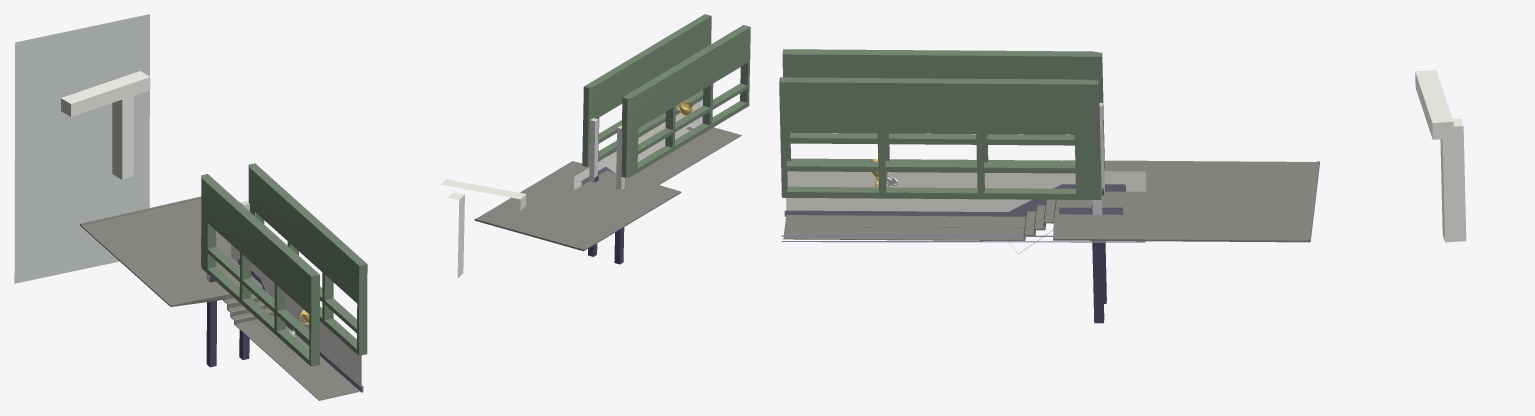
3 views of the same model, side by side, from view 1: azimuth 30°, elevation 25°; view 2: azimuth 150°, elevation 25°; view 3: azimuth 270°, elevation 25° (orthographic). The views are drawn at different scales.
Visible parts, largest first — view 1: Plane.7, Cube, Boole, Cube.3 (×2), Plane.1, Plane.6, Plane.5, Cube.9; view 2: Cube, Boole, Cube.3 (×2), Plane.1, Plane.6, Cube.9, Plane.5, Cube.1, Cube.2; view 3: Cube, Cube.3, Boole, Plane, Cube.9, Plane.5, Plane.6, Plane.13, Plane.8, Cube.4.
Part boxes in pixels (x1,y1,x2,y2): Plane.7: [14, 14, 149, 283]; Cube: [80, 196, 359, 400]; Boole: [201, 174, 319, 366]; Cube.3 (×2): [206, 163, 367, 367]; Plane.1: [231, 244, 361, 386]; Plane.6: [61, 71, 150, 116]; Plane.5: [112, 95, 133, 179]; Cube.9: [255, 213, 356, 348]; Cube: [474, 127, 741, 251]; Boole: [621, 25, 750, 177]; Cube.3 (×2): [582, 14, 711, 264]; Plane.1: [574, 99, 702, 190]; Plane.6: [440, 179, 526, 210]; Cube.9: [598, 90, 703, 157]; Plane.5: [448, 192, 464, 277]; Cube.1: [589, 118, 598, 182]; Cube.2: [616, 126, 624, 189]; Cube: [783, 160, 1319, 242]; Cube.3: [779, 77, 1101, 199]; Boole: [782, 49, 1104, 169]; Plane: [786, 171, 1146, 211]; Cube.9: [785, 133, 1075, 193]; Plane.5: [1440, 118, 1466, 242]; Plane.6: [1415, 70, 1453, 139]; Plane.13: [781, 235, 1145, 242]; Plane.8: [784, 210, 1025, 216]; Cube.4: [1091, 204, 1104, 323].
Size of the model in its own units: 2207 by 3341 by 7257.
